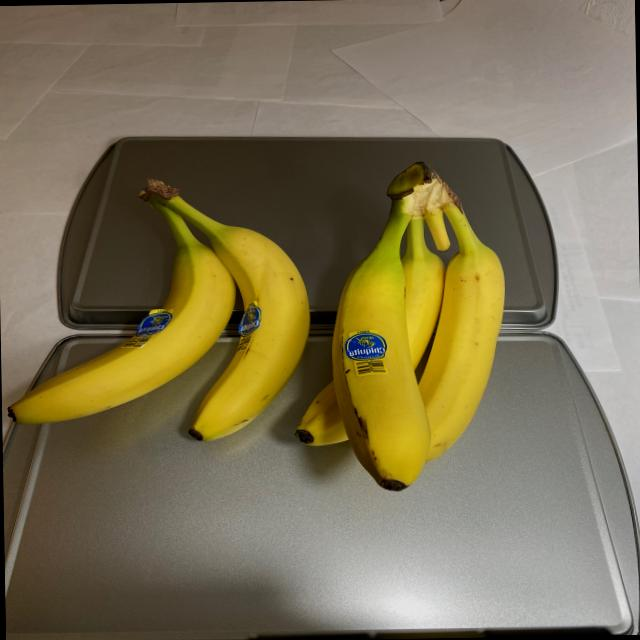banana: (0, 156, 317, 450), (287, 158, 513, 508)
